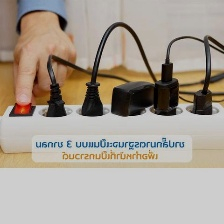three_eye_plug: (0, 97, 224, 156)
